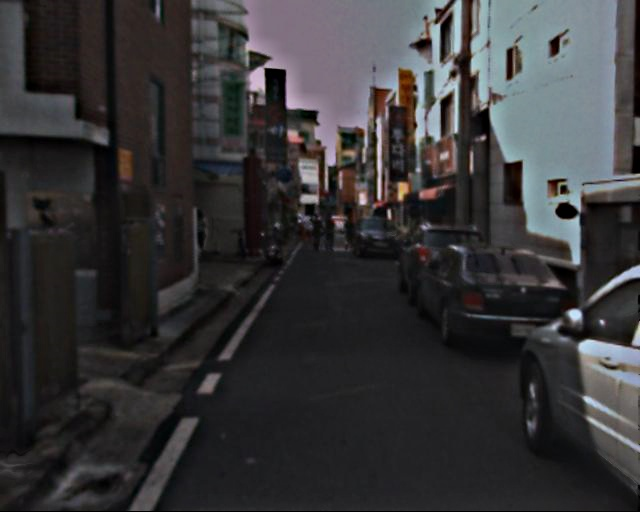person: (190, 210, 210, 258), (322, 217, 338, 255), (308, 215, 323, 251), (342, 218, 356, 253)
